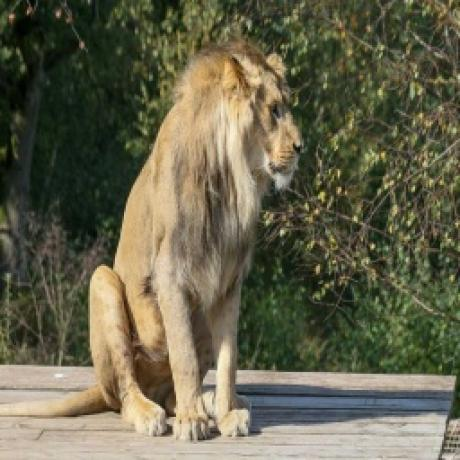Lion: (0, 28, 305, 444)
